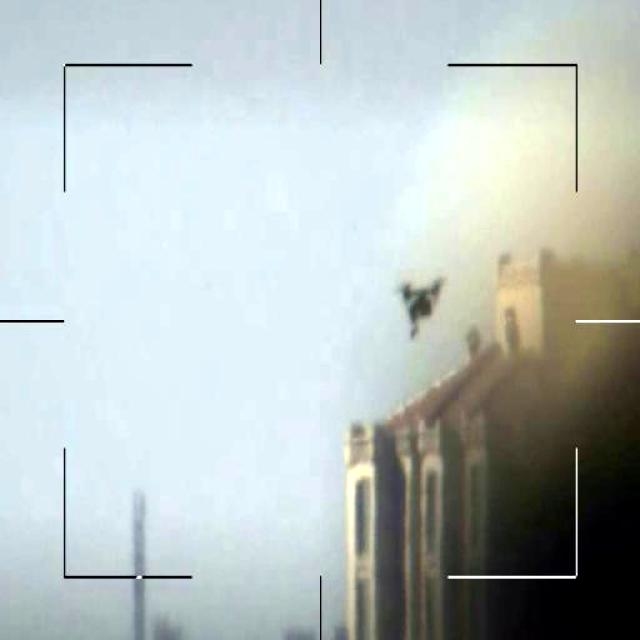bird: (398, 272, 446, 351)
